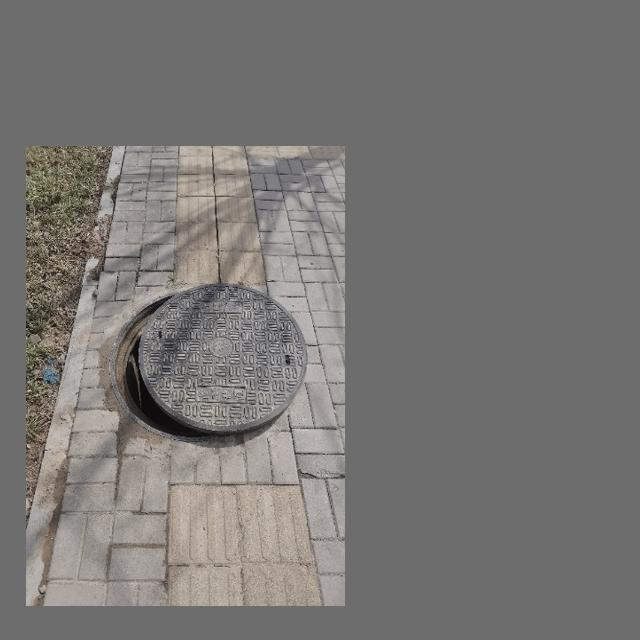uncovered: (105, 282, 307, 435)
